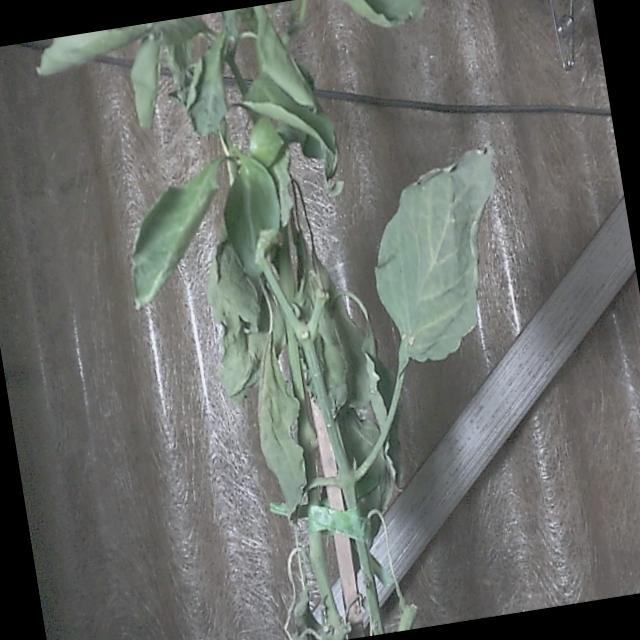Leaf: (356, 140, 524, 371), (114, 159, 238, 310), (244, 338, 318, 532), (237, 62, 342, 192), (213, 150, 290, 281)
